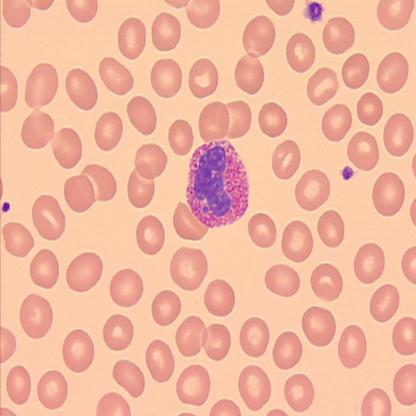Eosinophil: (187, 140, 248, 226)
